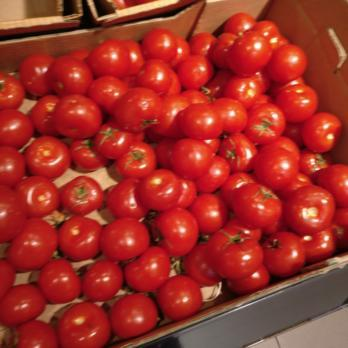Tomato: (0, 47, 168, 336), (150, 28, 307, 281)
